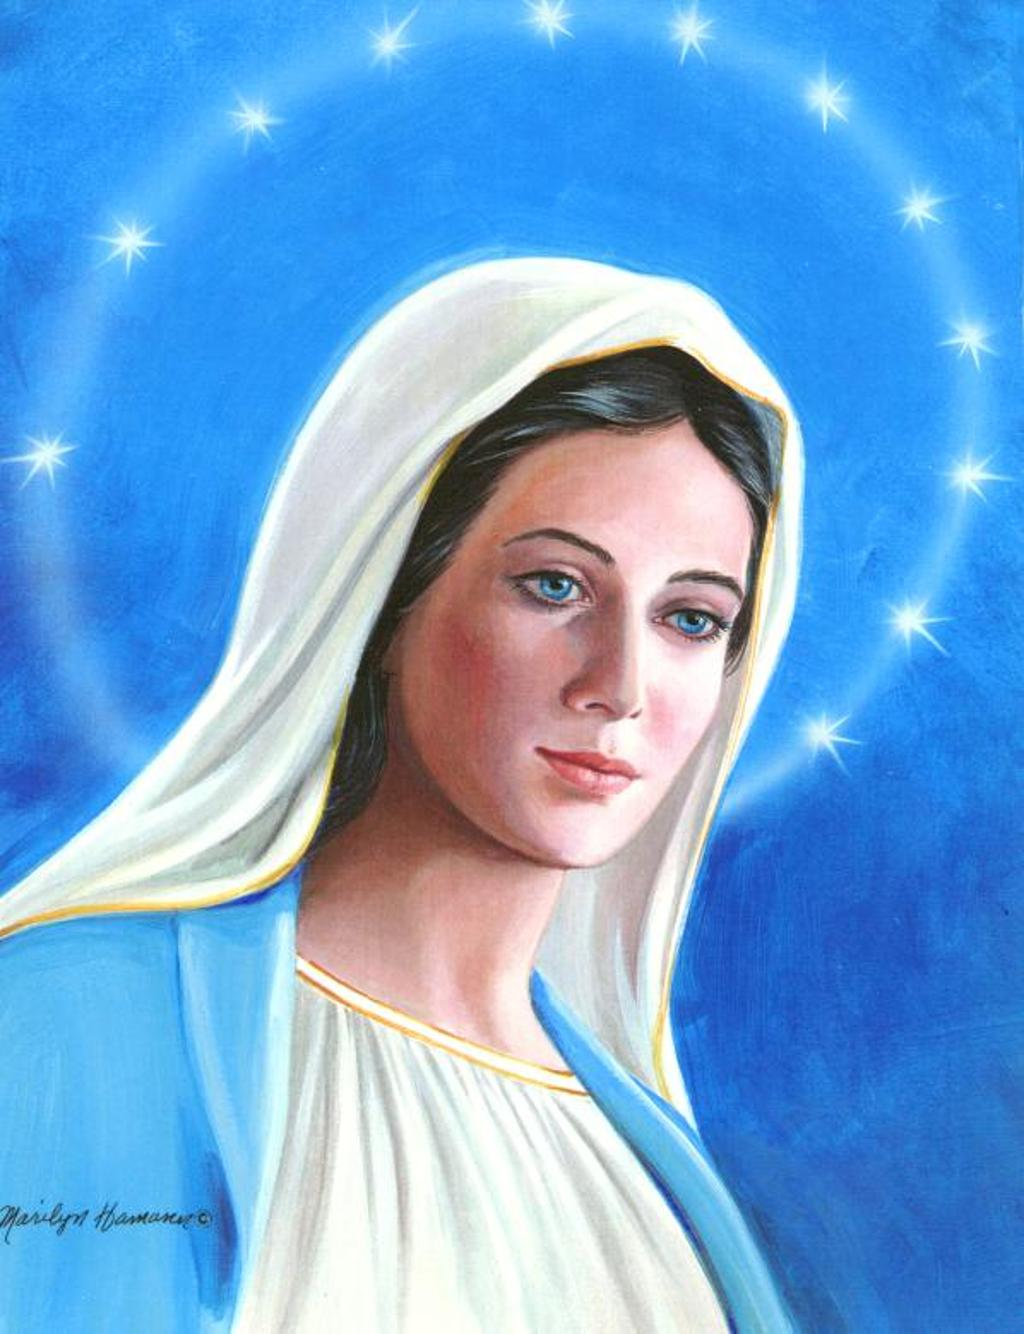face: (409, 425, 753, 865)
